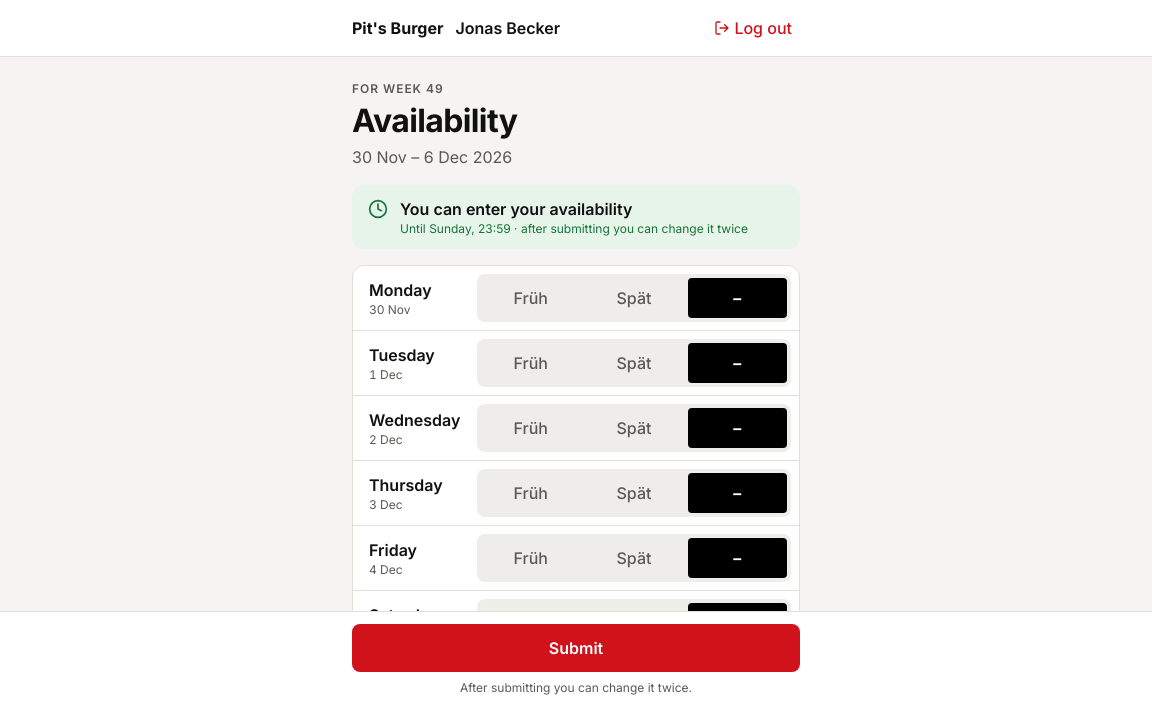
Scenario: Availability › moves the pick with the arrow keys
Click the radio button labelled "Früh" next to "Monday" at point(531, 298), box [481,278,580,318]
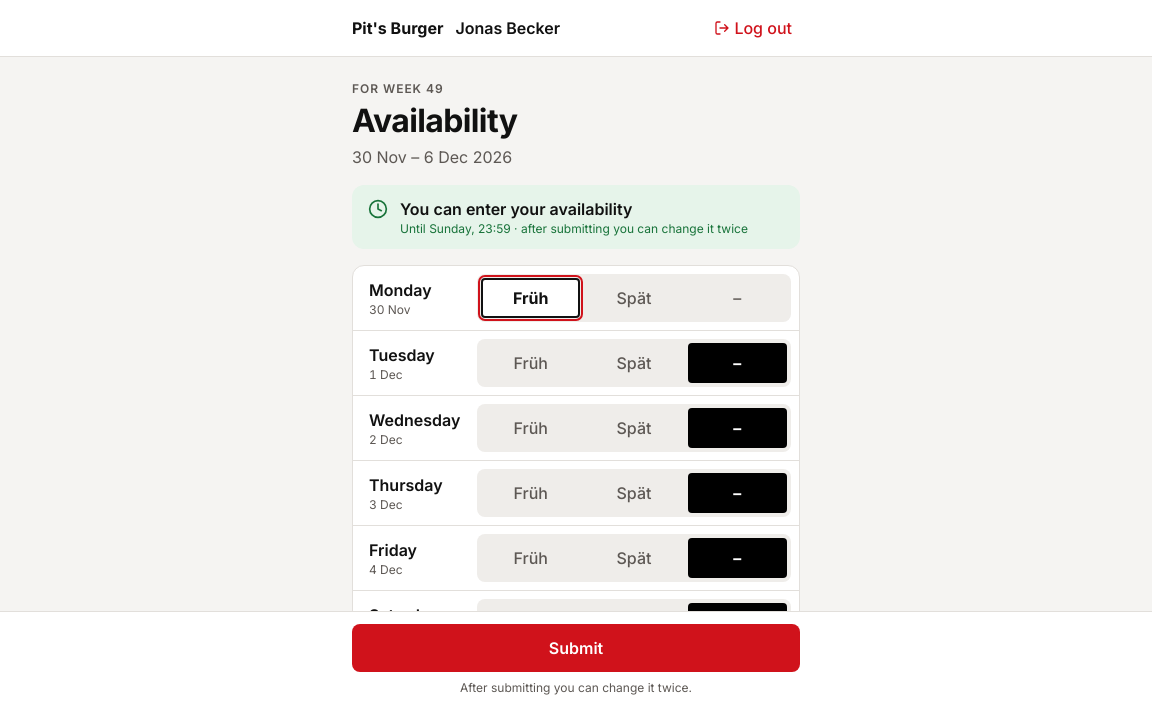
Press Arrowright
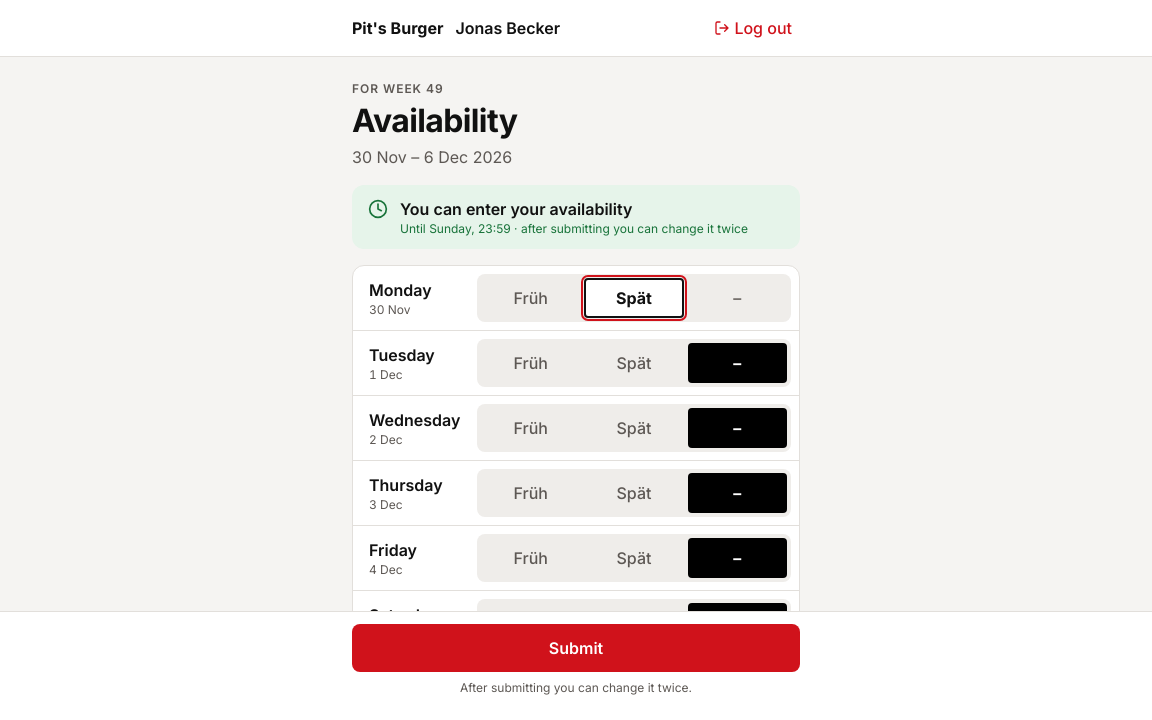
Expected: the radio button labelled "Spät" in the row of "Monday" is checked, [584,278,684,318]
